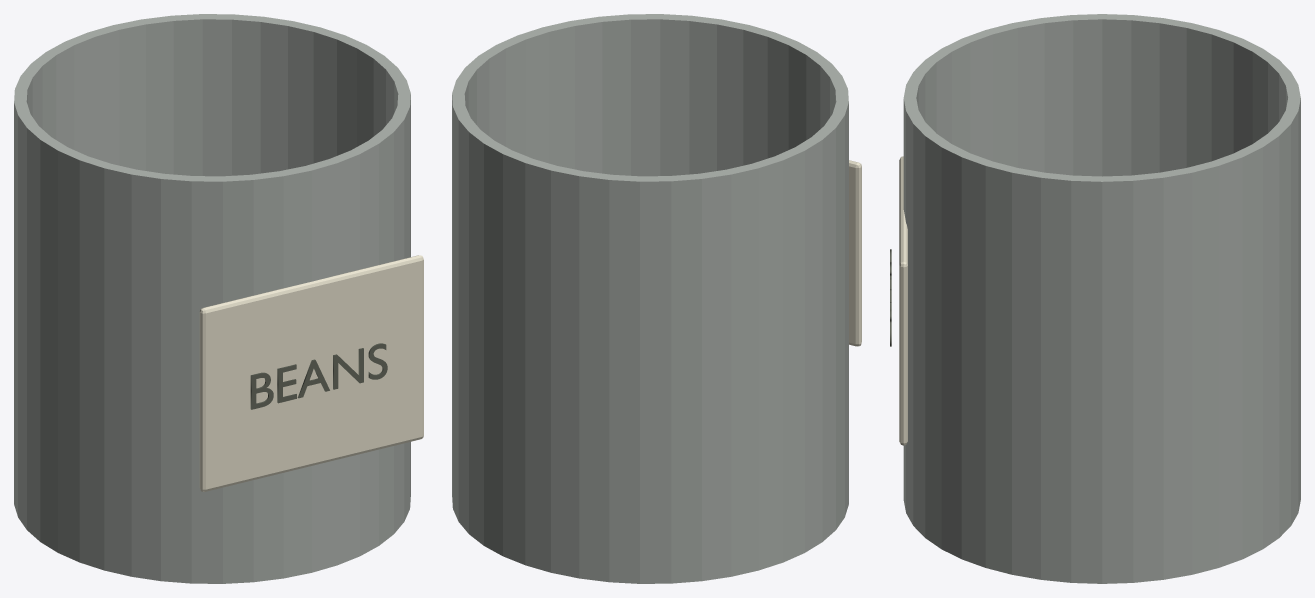
File: prop_empty_can.glb
3 renders of one model, left to right at view 1: azimuth 30°, elevation 25°; view 2: azimuth 150°, elevation 25°; view 3: azimuth 270°, elevation 25°, orthographic.
Parts seen in each view (by area): view 1: Open_bean_tin, Bean_label, Beans; view 2: Open_bean_tin, Bean_label; view 3: Open_bean_tin, Bean_label.
Part boxes in pixels (x1=…): Open_bean_tin: x1=14, y1=14, x2=410, y2=583; Bean_label: x1=199, y1=255, x2=423, y2=491; Beans: x1=250, y1=343, x2=387, y2=409; Open_bean_tin: x1=452, y1=14, x2=848, y2=583; Bean_label: x1=849, y1=160, x2=861, y2=346; Open_bean_tin: x1=903, y1=14, x2=1300, y2=583; Bean_label: x1=899, y1=156, x2=907, y2=445.
Bounding box in the file's own units: 0.094 × 0.105 × 0.0972.
